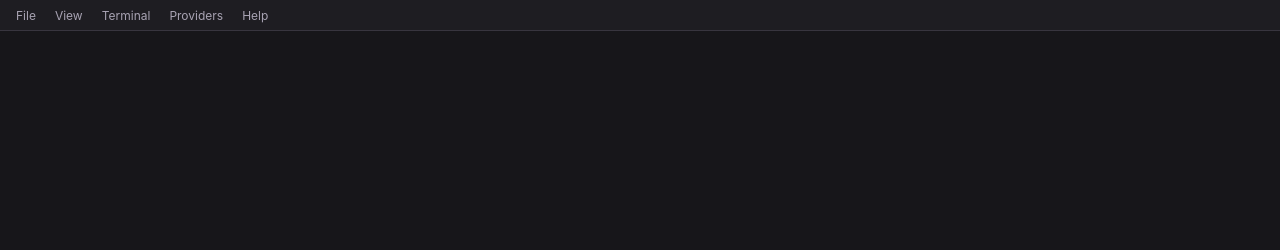
AppMenuBar › enables save only for a dirty open file
Click the heading "File" at [26, 15], box [16,8,36,22]
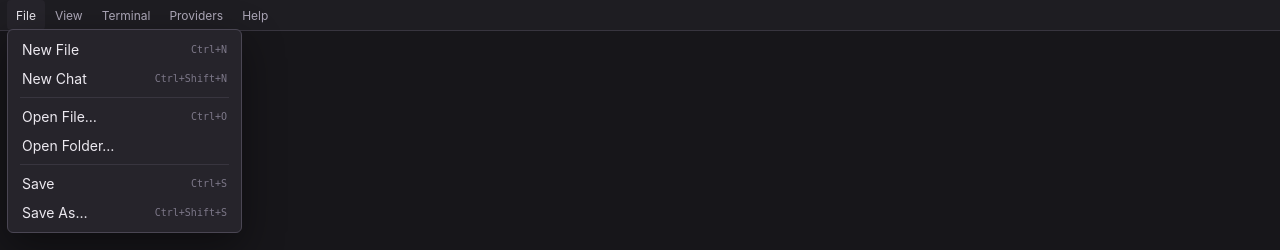
Check: the menu item "Save Ctrl+S" is enabled, box [13,169,236,198]
